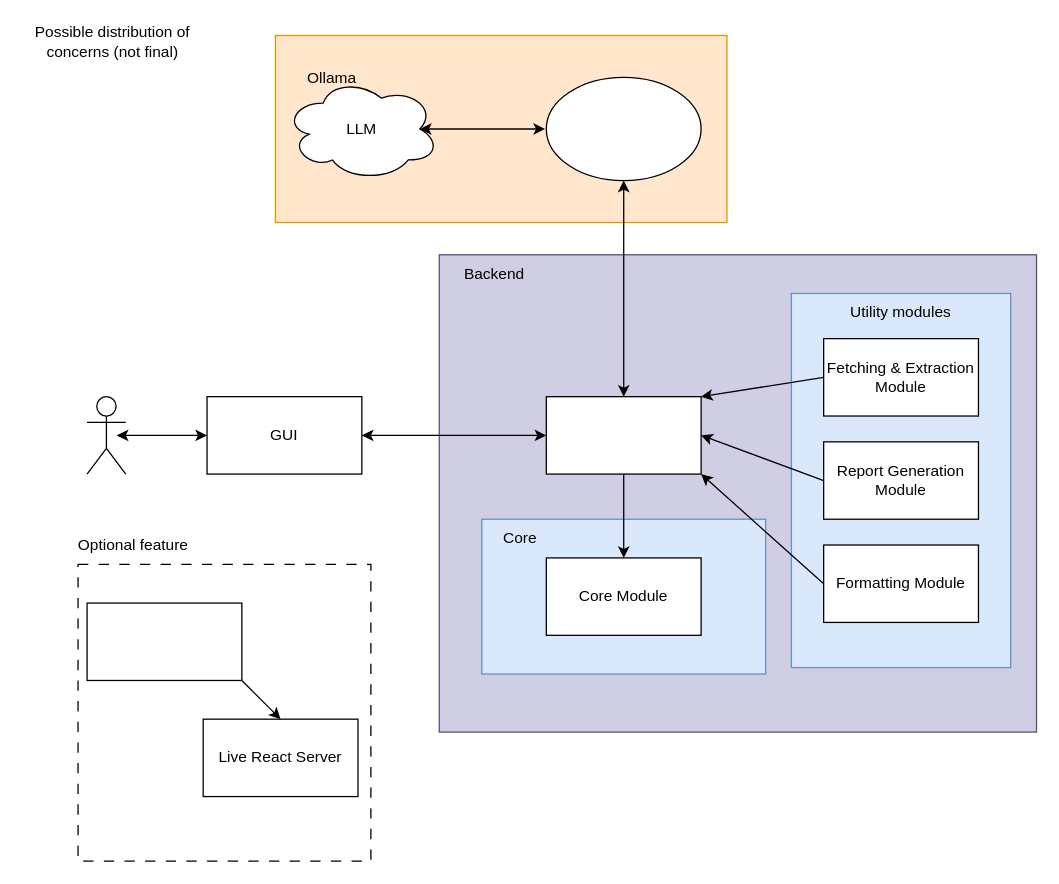
This 1059x884 diagram has some shape labels left out. Here are the shapes that lost their labels. From the top down, the centre of each, then its label:
At point (623, 128): "Ollama API".
At point (106, 434): "User".
At point (623, 434): "Kotlin API".
At point (164, 641): "Chain Visualization Component".
